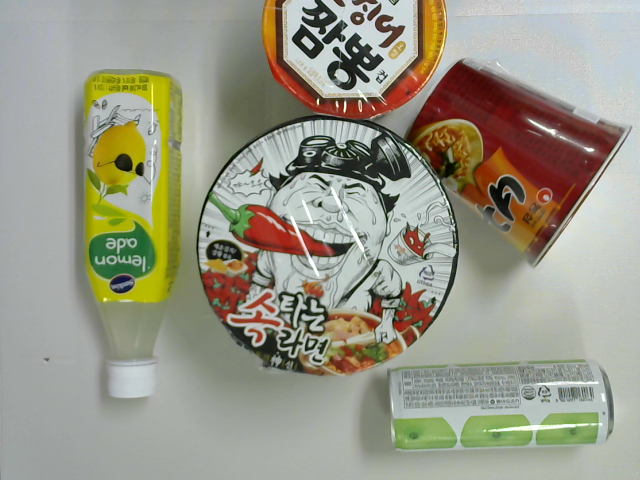Demisoda_Apple_Can_250ml: (387, 357, 615, 454)
HeJangsock: (196, 116, 459, 377)
Ojjam: (262, 1, 449, 120)
Raccoon: (403, 57, 634, 269)
Sunkist_Lemonaid_Pet: (76, 68, 184, 399)
